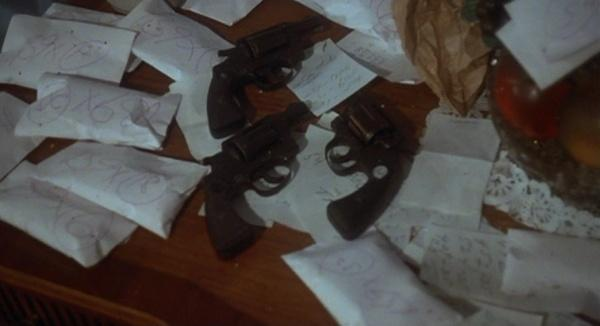Gun: (200, 102, 310, 260), (208, 13, 327, 140), (331, 90, 415, 241)
